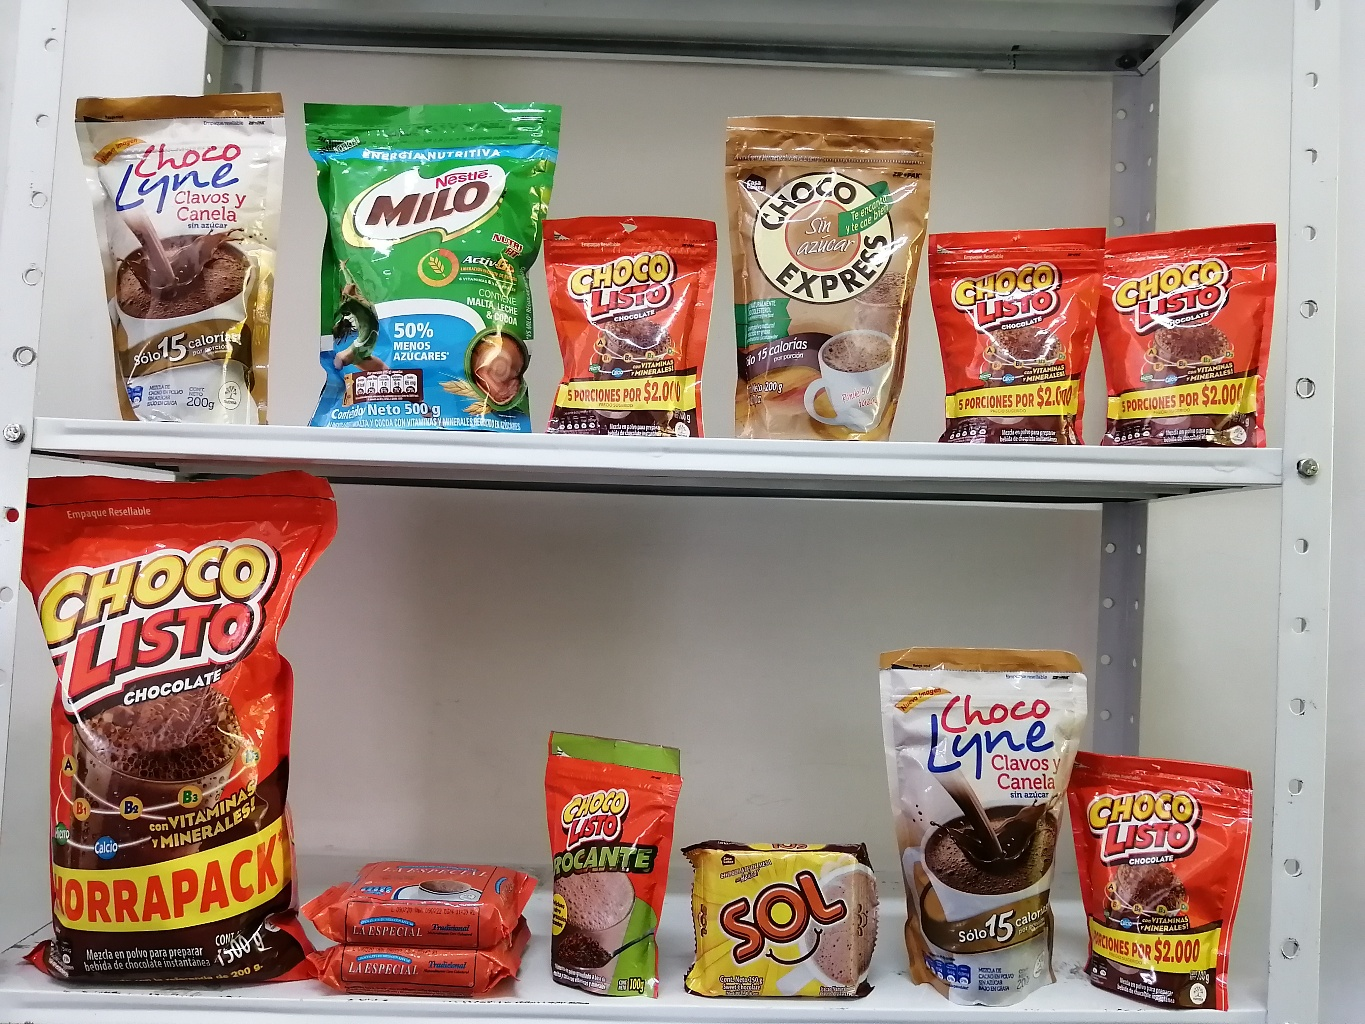COL0170102DYP10000: (531, 723, 689, 1001)
COL0170103DYP1,500: (18, 463, 350, 982)
COL0170103DYP10000: (1101, 209, 1282, 447)
COL0170205DYP50000: (304, 91, 561, 428)
